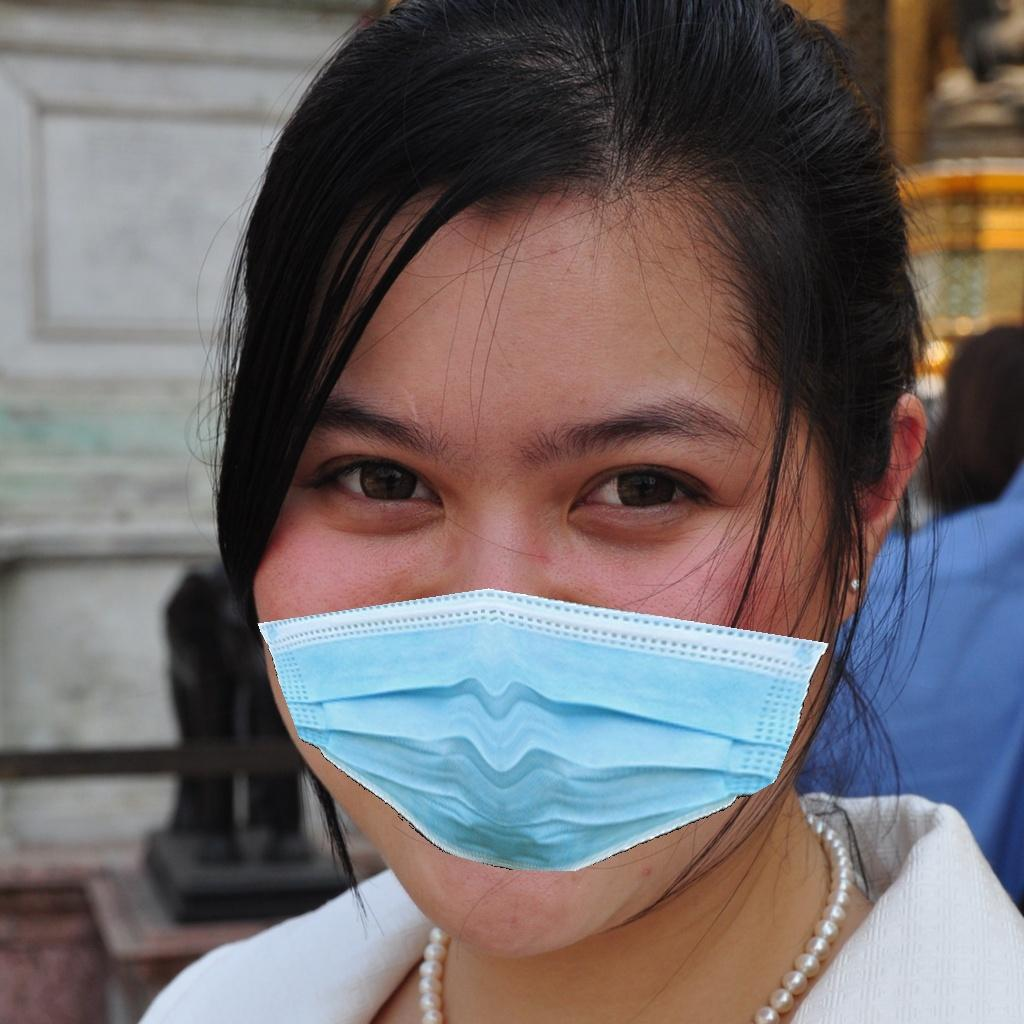Com Máscara: (266, 295, 854, 956)
